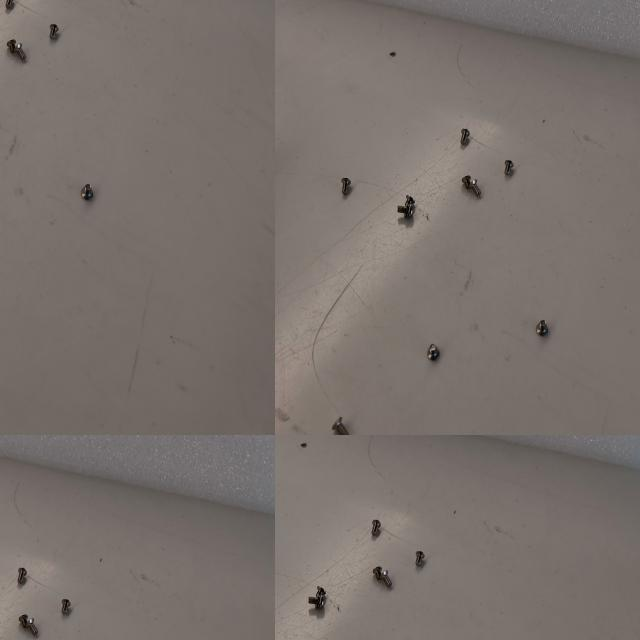Screw: (127, 490, 176, 533), (379, 568, 394, 592), (306, 595, 326, 610), (369, 518, 382, 536), (413, 549, 425, 568), (372, 564, 383, 582), (314, 584, 327, 598)
